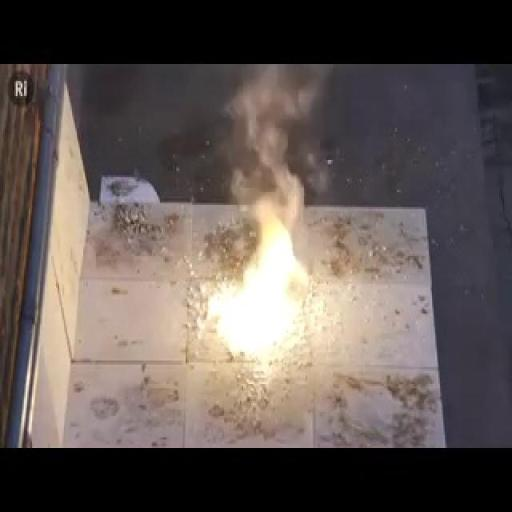smoke: (214, 151, 312, 367)
